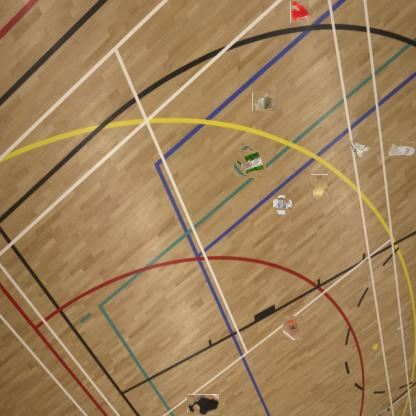dirty: (235, 148, 265, 176), (347, 137, 371, 159), (310, 174, 328, 201), (283, 316, 303, 340), (253, 91, 275, 112), (386, 142, 416, 156), (274, 196, 290, 212)
liquid: (187, 394, 219, 415), (290, 2, 309, 24)
